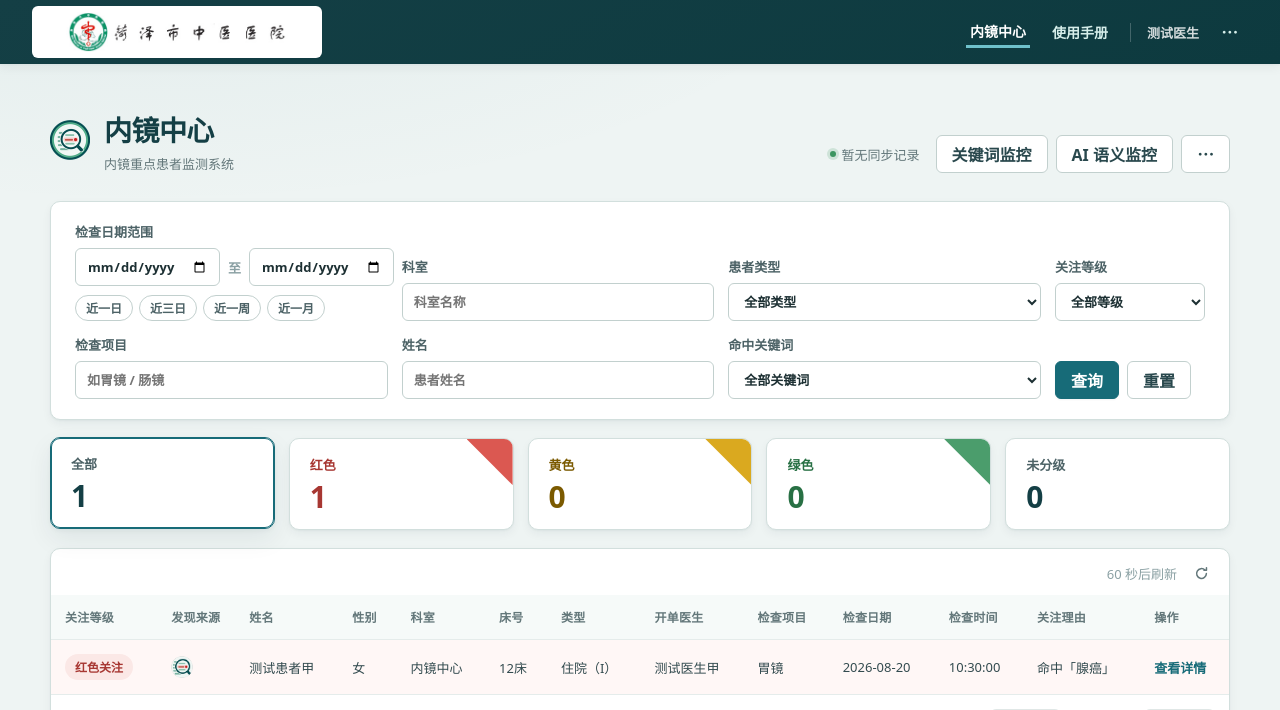
App › hides the user-management entry for a user without USER_ADMIN
Expected: the text "测试患者甲" is shown, [235, 640, 338, 694]
Step 1. Click the button named "更多配置" → coordinates (1206, 154), box [1181, 135, 1230, 173]
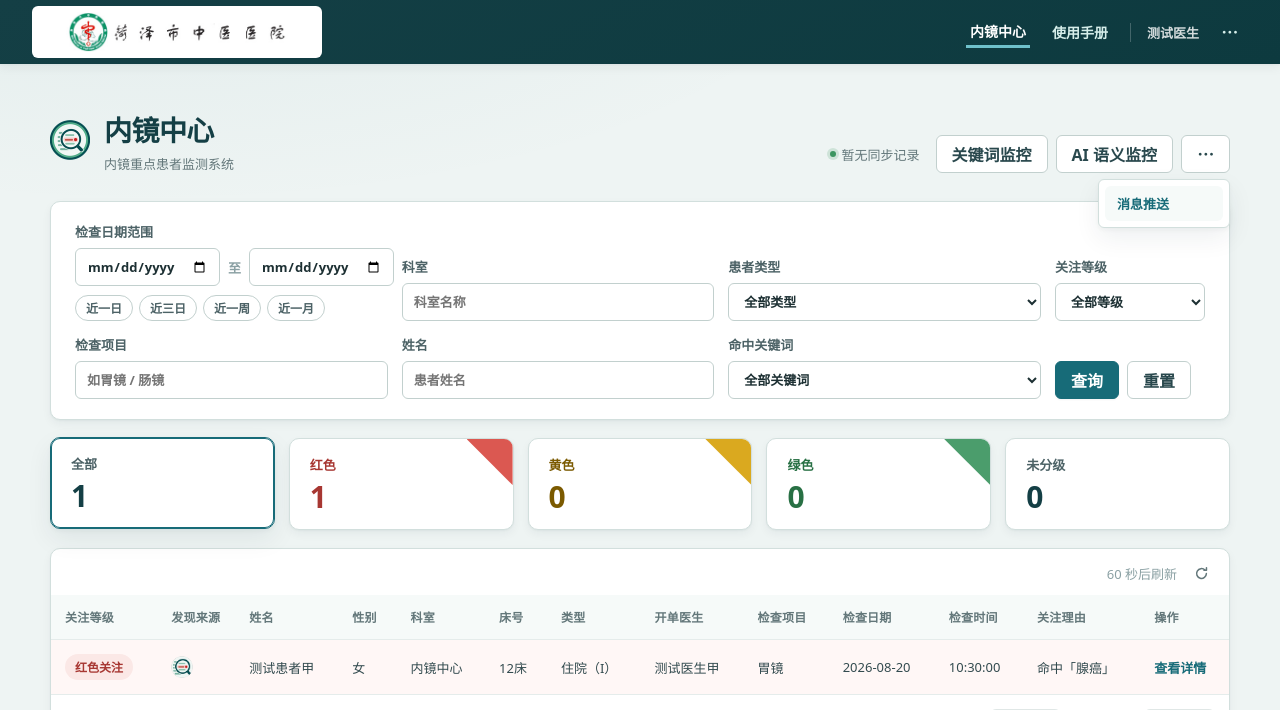
Expected: the menu item "消息推送" is shown, [1105, 186, 1223, 221]
